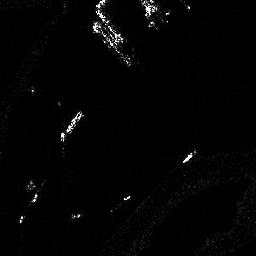ship: (90, 21, 132, 67), (60, 110, 85, 140), (181, 150, 197, 165)
